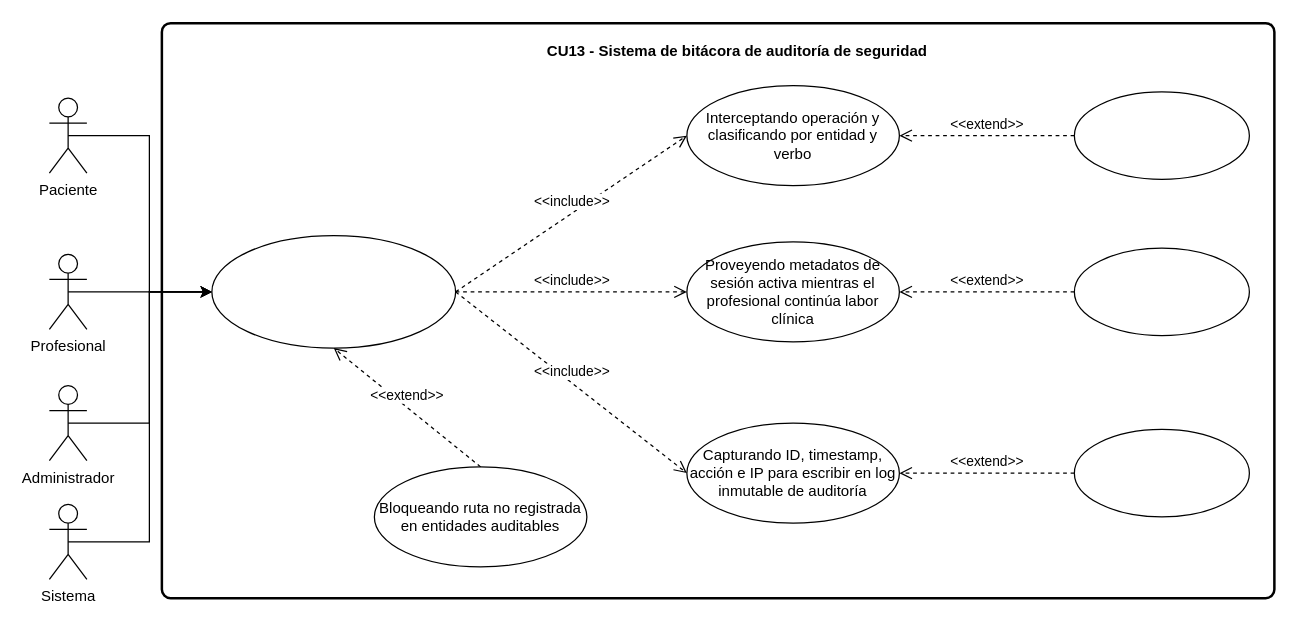
Image size: 1296x626. Some labels were removed from this diagram. Each missing label, with the box of its shape:
Deteniendo operación por falla en log inmutable: (1073, 428, 1249, 517)
Ejecutando acción de lectura o modificación en Ficha Clínica Electrónica: (211, 234, 456, 348)
Generando alerta de error interno: (1073, 91, 1249, 179)
Rechazando petición por metadatos ausentes: (1073, 247, 1249, 336)
